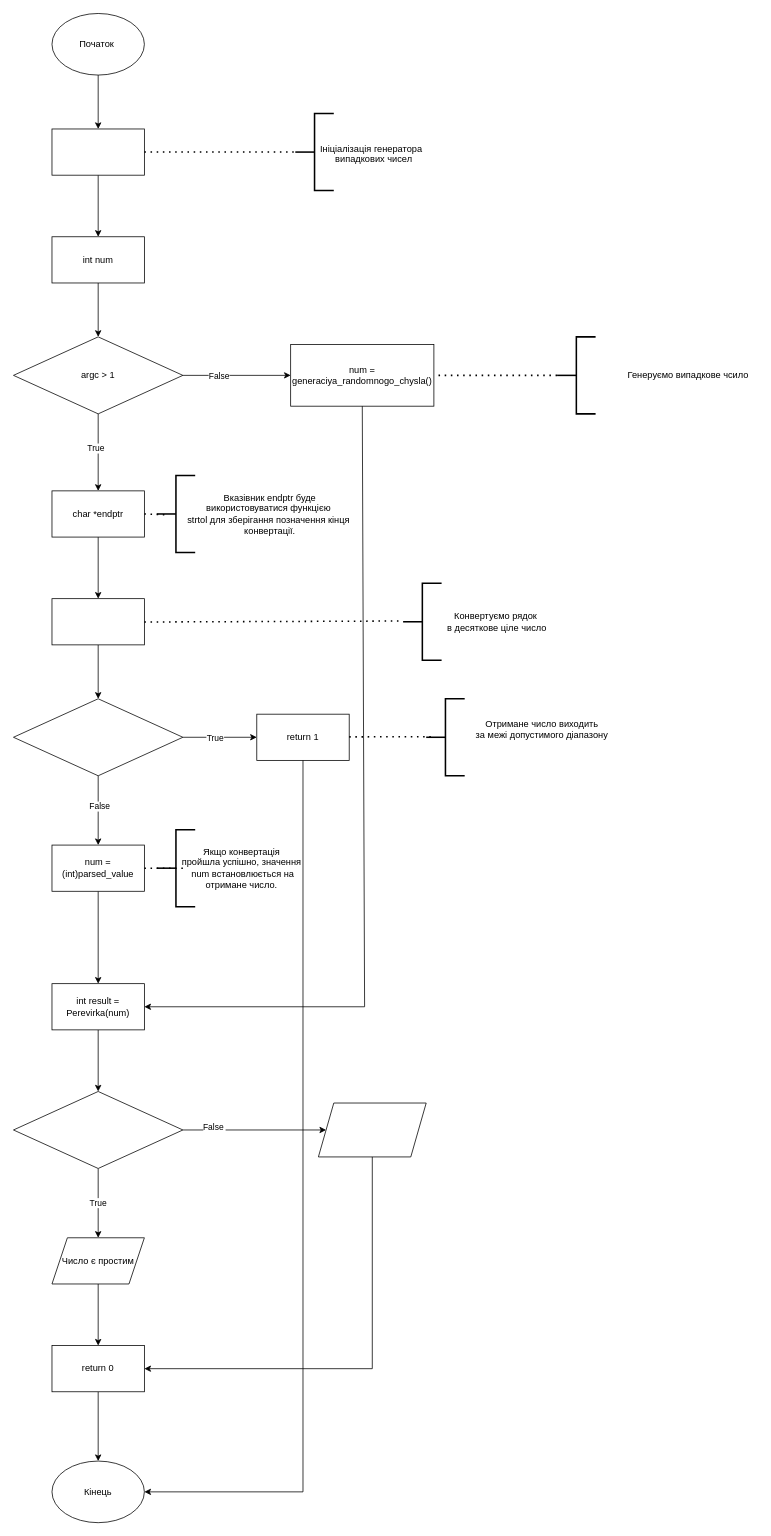
Image size: 771x1536. Some labels were removed from this diagram. The centre of each missing label's shape, as x and y in pixels:
"*endptr != '\0' || parsed_value > RAND_MAX || parsed_value < 0" belongs at [98,737].
"long parsed_value = strtol(argv[1], &endptr, 10)" belongs at [97,621].
"result == 1" belongs at [98,1129].
"srand((unsigned int)time(NULL))" belongs at [97,151].
"Число не є простим" belongs at [372,1129].
